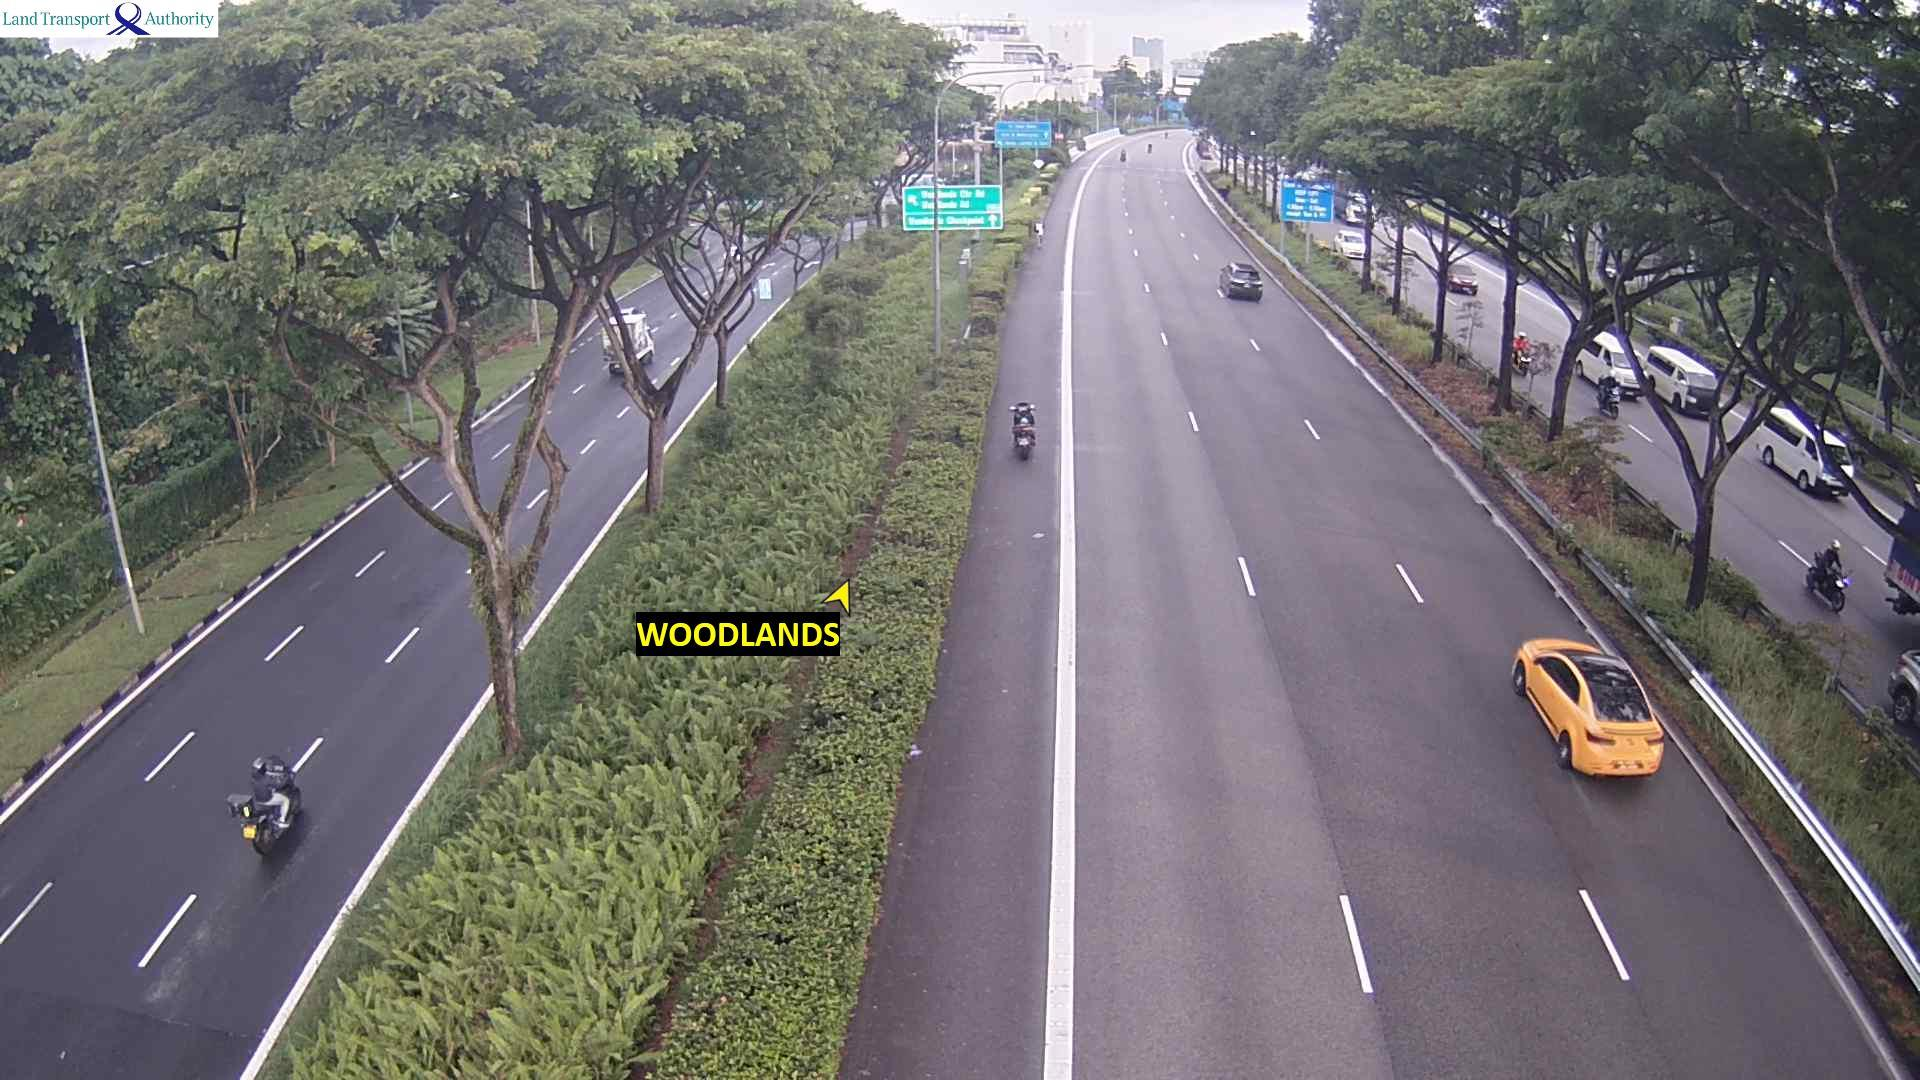cars: (1509, 636, 1664, 779), (1753, 402, 1855, 498), (1644, 344, 1724, 417), (1575, 327, 1647, 400), (1884, 647, 1919, 727), (1217, 260, 1263, 301), (1445, 264, 1478, 295), (1333, 228, 1365, 258)
motorcycle: (225, 754, 302, 857), (1804, 549, 1851, 612), (1007, 401, 1036, 460), (1596, 371, 1621, 419), (1511, 330, 1532, 375), (1117, 146, 1129, 166), (1142, 140, 1154, 154), (1162, 131, 1168, 140)
trucks: (1880, 497, 1919, 615), (600, 306, 655, 375)
